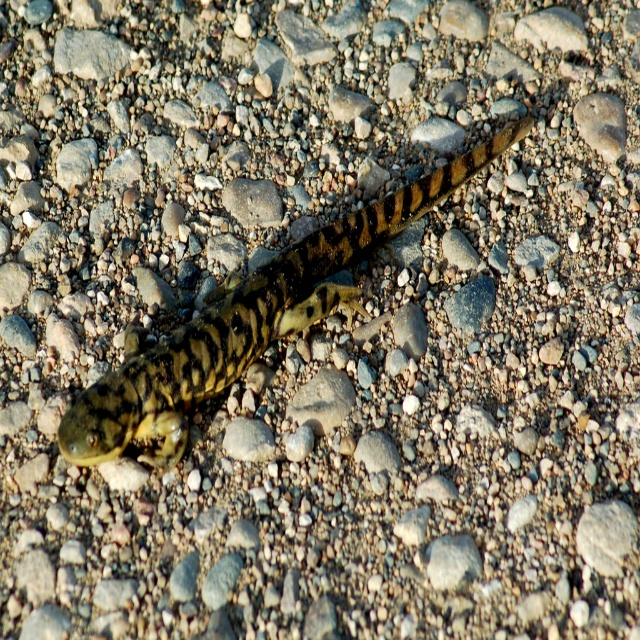Fish: (44, 84, 523, 452)
